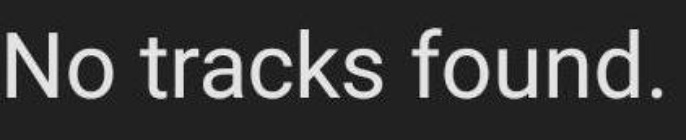TextView: (1, 1, 685, 139)
